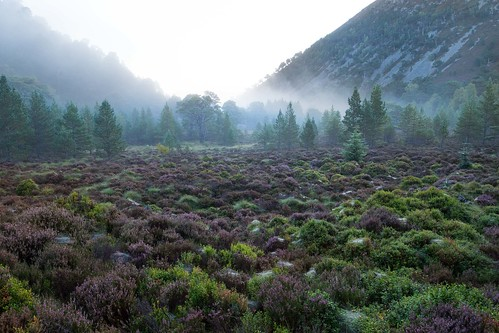sky: (47, 4, 369, 79)
vegetation: (1, 92, 499, 333)
